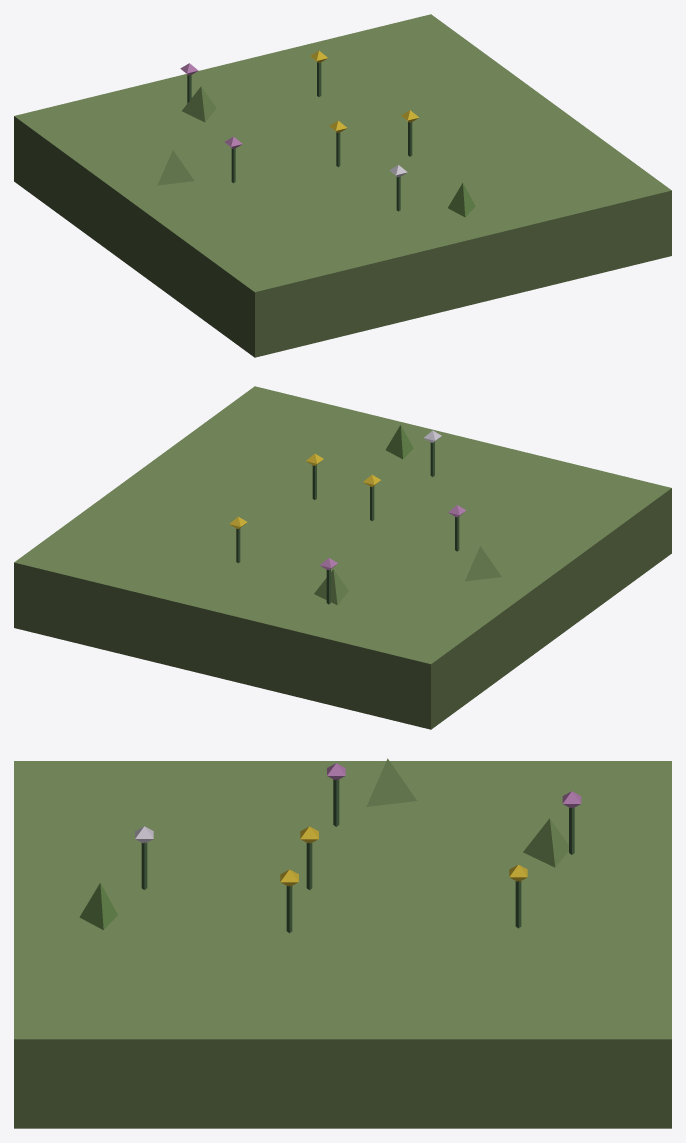
Rendered from t_grass_b.glb.
3 renders of one model, top to bottom at view 1: azimuth 30°, elevation 25°; view 2: azimuth 150°, elevation 25°; view 3: azimuth 270°, elevation 25°, orthographic. The views are drawn at different scales.
Visible parts, largest first — view 1: t_grass_b; view 2: t_grass_b; view 3: t_grass_b.
Boxes of the visible parts, x1=… form: t_grass_b: x1=14, y1=14, x2=671, y2=357; t_grass_b: x1=14, y1=386, x2=671, y2=729; t_grass_b: x1=14, y1=758, x2=671, y2=1128.
Bounding box in the file's own units: 2 × 0.51 × 2.
